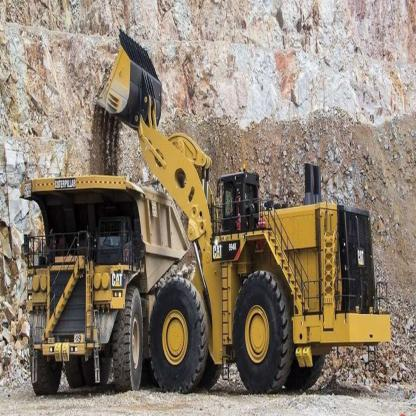bull_dozer/loader/grader: (96, 26, 399, 410)
